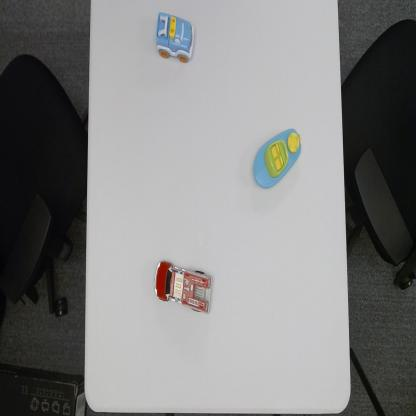Boat: (252, 127, 303, 192)
Car: (155, 12, 196, 65)
Firetruck: (154, 259, 214, 315)
